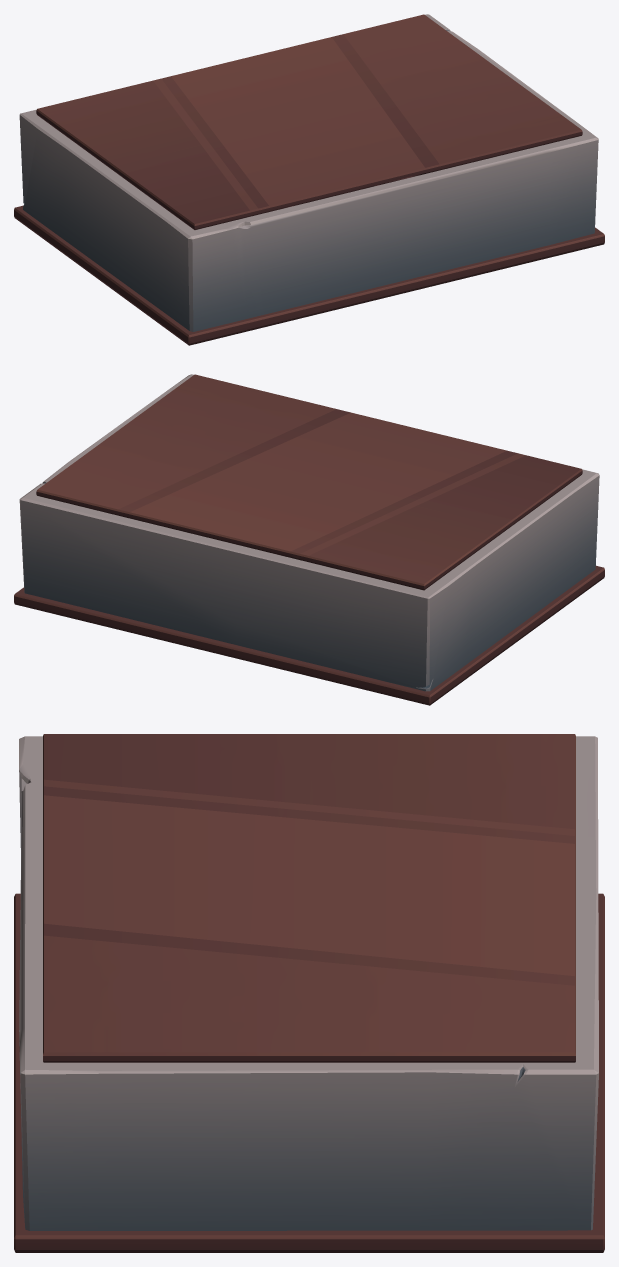
Rendered from DisplayCase_High_3x4_Classic_A.fbx.
3 views of the same model, one above another, from view 1: azimuth 30°, elevation 25°; view 2: azimuth 150°, elevation 25°; view 3: azimuth 270°, elevation 25° (orthographic). The views are drawn at different scales.
Parts seen in each view (by area): view 1: DisplayCase_High_3x4_Classic_A; view 2: DisplayCase_High_3x4_Classic_A; view 3: DisplayCase_High_3x4_Classic_A.
Boxes of the visible parts, left/top/right/bottom form: DisplayCase_High_3x4_Classic_A: left=14, top=14, right=604, bottom=345; DisplayCase_High_3x4_Classic_A: left=14, top=374, right=604, bottom=705; DisplayCase_High_3x4_Classic_A: left=14, top=734, right=604, bottom=1252.
Bounding box in the file's own units: 3.89 × 1 × 2.83.
